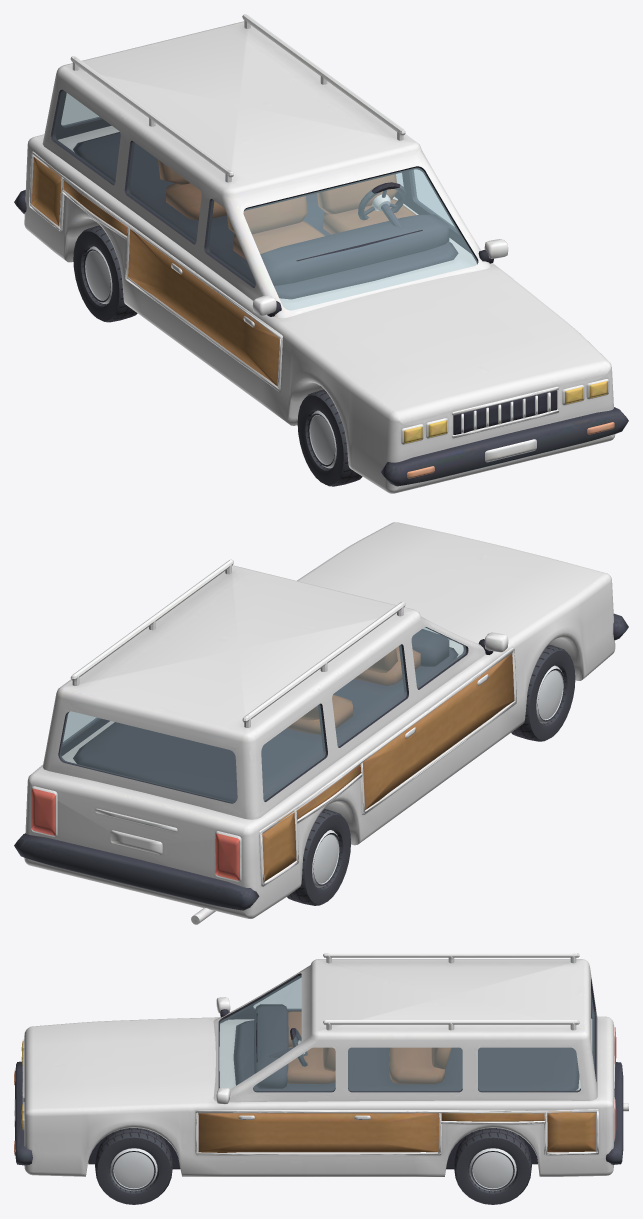
The model's file is wagon.glb.
3 views of the same model, one above another, from view 1: azimuth 30°, elevation 25°; view 2: azimuth 150°, elevation 25°; view 3: azimuth 270°, elevation 25° (orthographic). The views are drawn at different scales.
Visible parts, largest first — view 1: 1980s-station-wagon_body, 1980s-station-wagon_windows, 1980s-station-wagon_wheel_fr, 1980s-station-wagon_wheel_rr; view 2: 1980s-station-wagon_body, 1980s-station-wagon_windows, 1980s-station-wagon_wheel_fr, 1980s-station-wagon_wheel_rr; view 3: 1980s-station-wagon_body, 1980s-station-wagon_windows, 1980s-station-wagon_wheel_rl, 1980s-station-wagon_wheel_fl.
Boxes of the visible parts, box(x1,y1,x2,y2) form: 1980s-station-wagon_body: box(14, 14, 628, 493); 1980s-station-wagon_windows: box(53, 90, 477, 310); 1980s-station-wagon_wheel_fr: box(297, 389, 362, 486); 1980s-station-wagon_wheel_rr: box(73, 225, 137, 322); 1980s-station-wagon_body: box(14, 522, 628, 924); 1980s-station-wagon_windows: box(60, 627, 465, 802); 1980s-station-wagon_wheel_fr: box(511, 644, 575, 741); 1980s-station-wagon_wheel_rr: box(287, 808, 350, 905); 1980s-station-wagon_body: box(14, 953, 628, 1176); 1980s-station-wagon_windows: box(220, 975, 594, 1090); 1980s-station-wagon_wheel_rl: box(454, 1128, 531, 1204); 1980s-station-wagon_wheel_fl: box(95, 1128, 172, 1204).
Size of the model in its own units: 1.85 by 1.53 by 4.88.
Materials: 6 (2 with a texture image).
